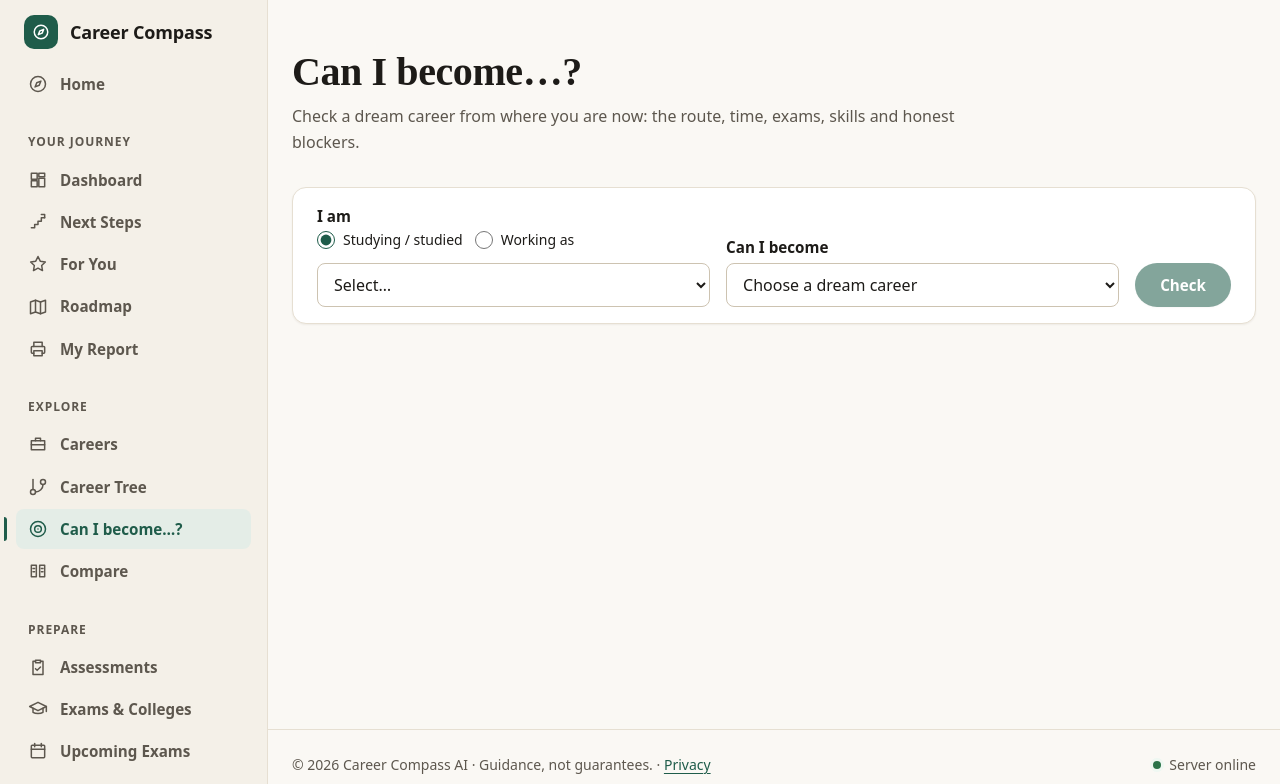
Dream career checker › checks a dream career from the form
The width and height of the screenshot is (1280, 784).
Select "Class 12 – Science (PCM)" in the dropdown named "Current stage" at (514, 285), box [317,263,710,307]
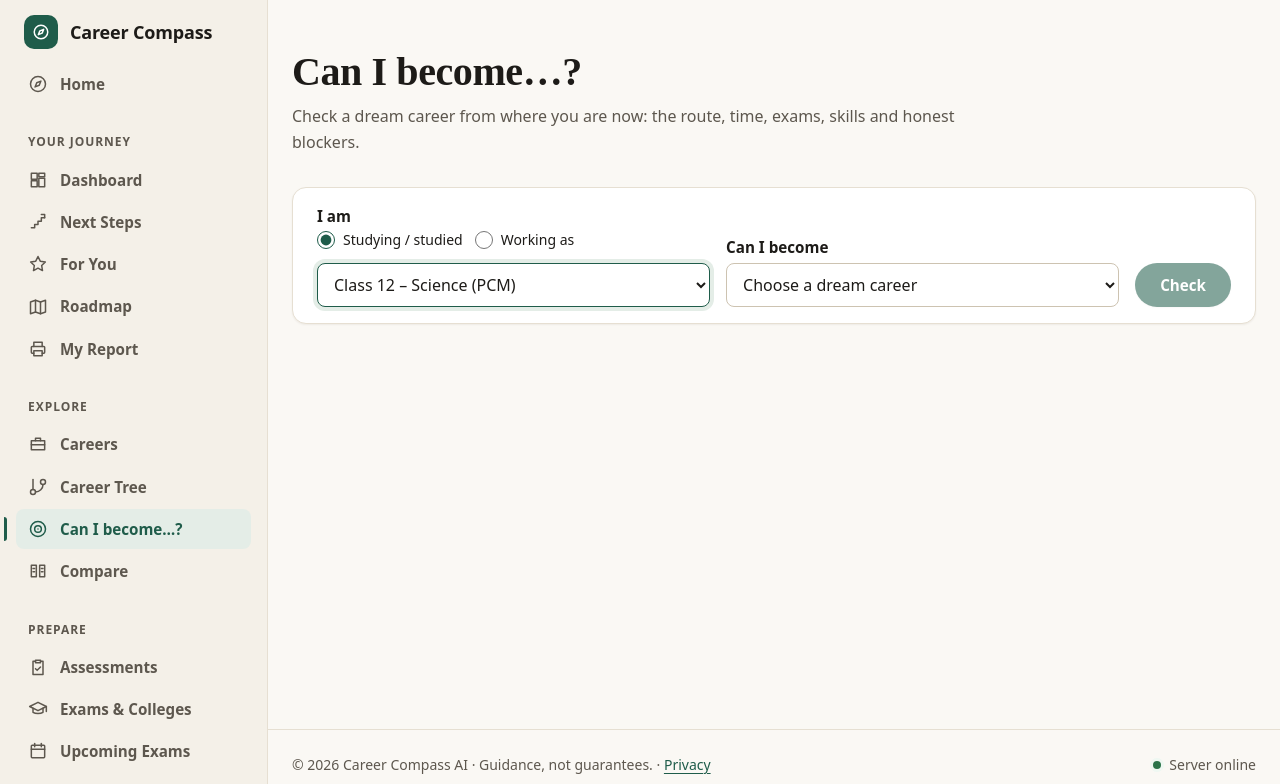
Select "Data Scientist" in the dropdown labelled "Can I become" at (923, 285), box [726,263,1119,307]
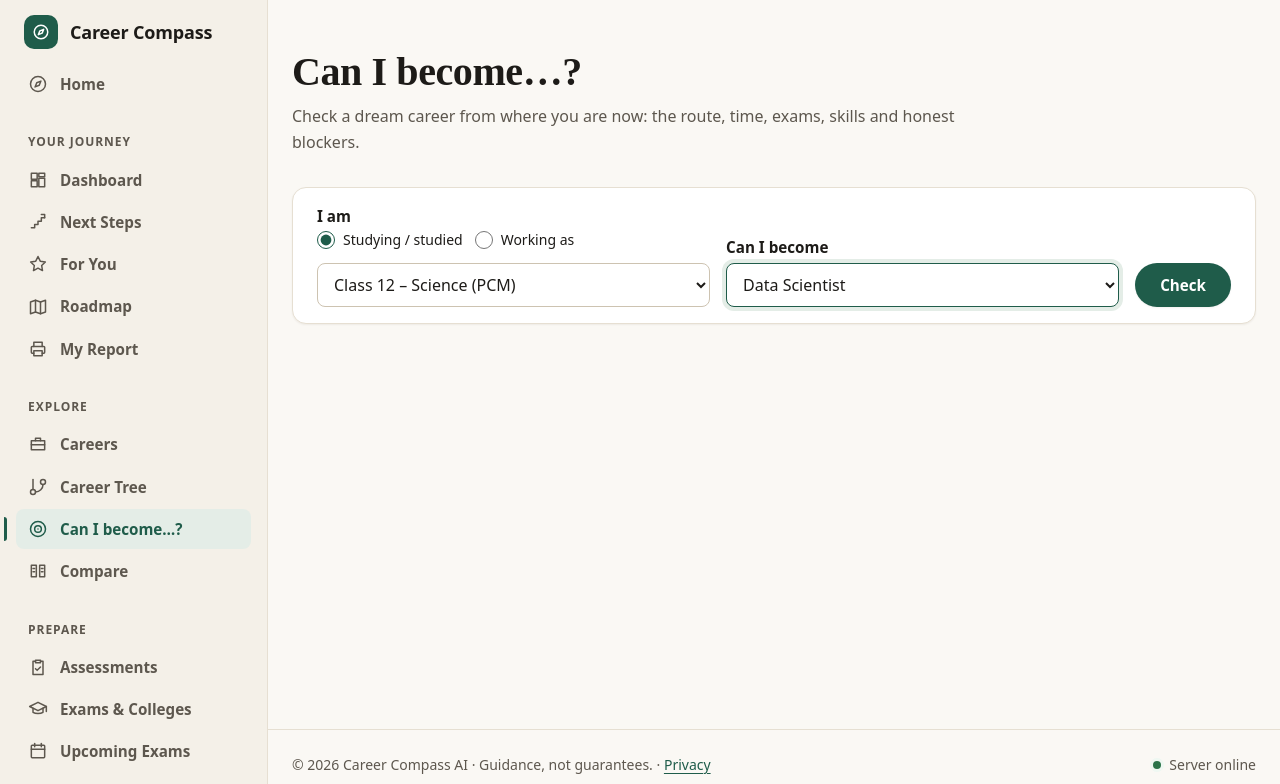
Click the button "Check".
click(1183, 285)  # box [1135,263,1231,307]
(page scrolled)
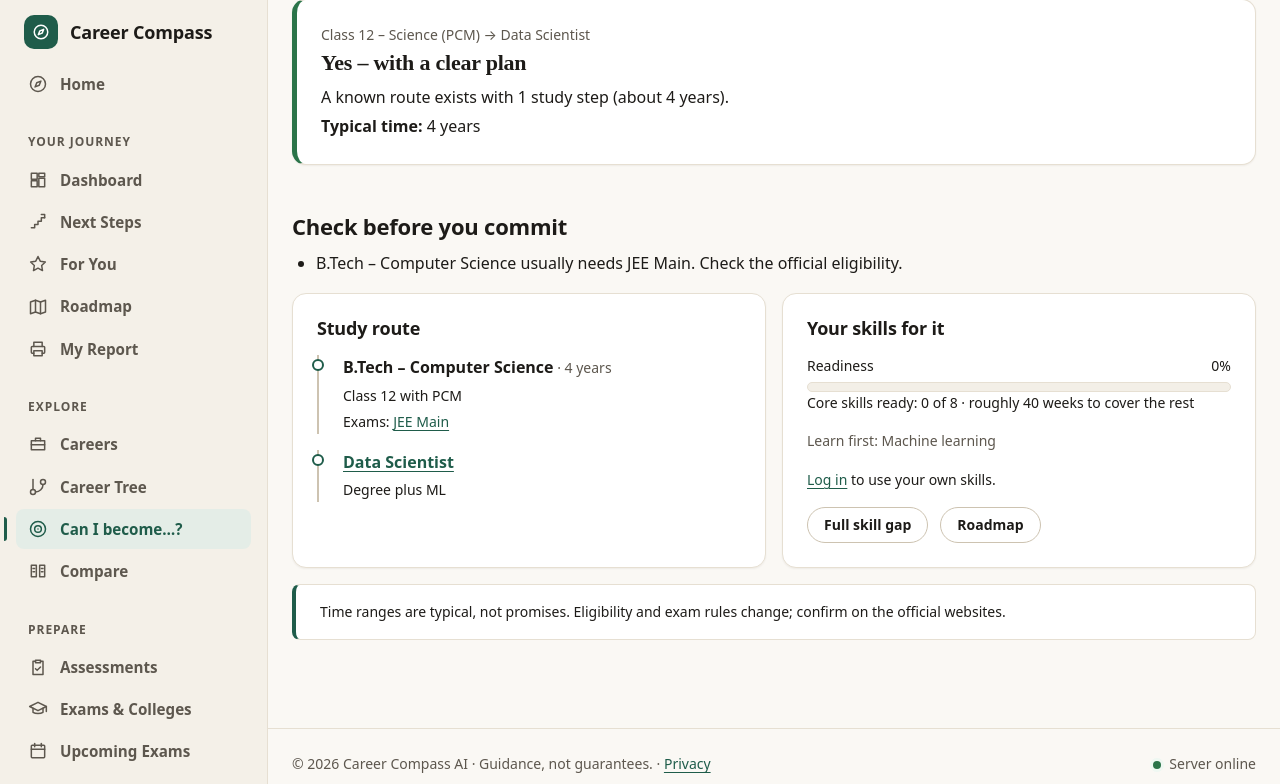
Expected: the heading "Yes – with a clear plan" is shown, [321,50,526,75]
Expected: the text "4 years" is shown, [427,115,480,137]
Expected: the list item "usually needs JEE Main" is shown, [316,252,903,274]
